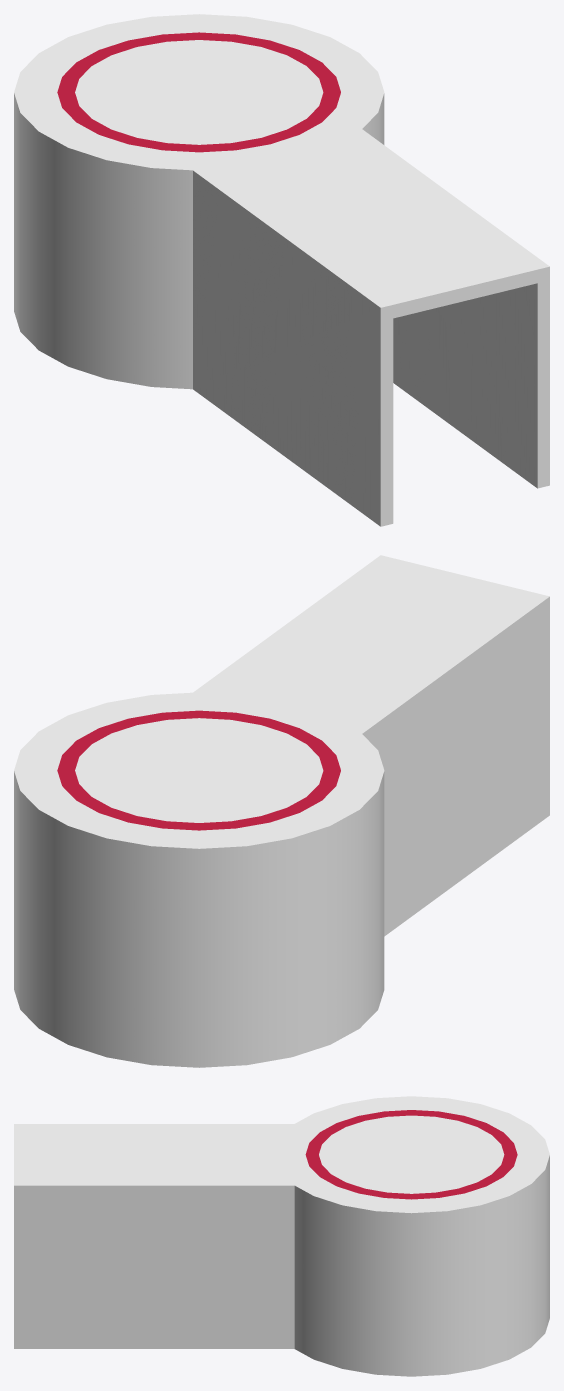
File: Re Change path.fbx
3 renders of one model, top to bottom at view 1: azimuth 30°, elevation 25°; view 2: azimuth 150°, elevation 25°; view 3: azimuth 270°, elevation 25°, orthographic. The views are drawn at different scales.
Visible parts, largest first — view 1: pCube1, pCylinder1; view 2: pCylinder1, pCube1; view 3: pCylinder1, pCube1.
Boxes of the visible parts, x1,y1,x2,y2 form: pCube1: [193, 129, 549, 526]; pCylinder1: [14, 14, 384, 389]; pCylinder1: [14, 692, 384, 1067]; pCube1: [193, 555, 549, 936]; pCylinder1: [273, 1096, 549, 1376]; pCube1: [14, 1124, 294, 1348].
Bounding box in the file's own units: 24.53 × 16 × 47.52.
